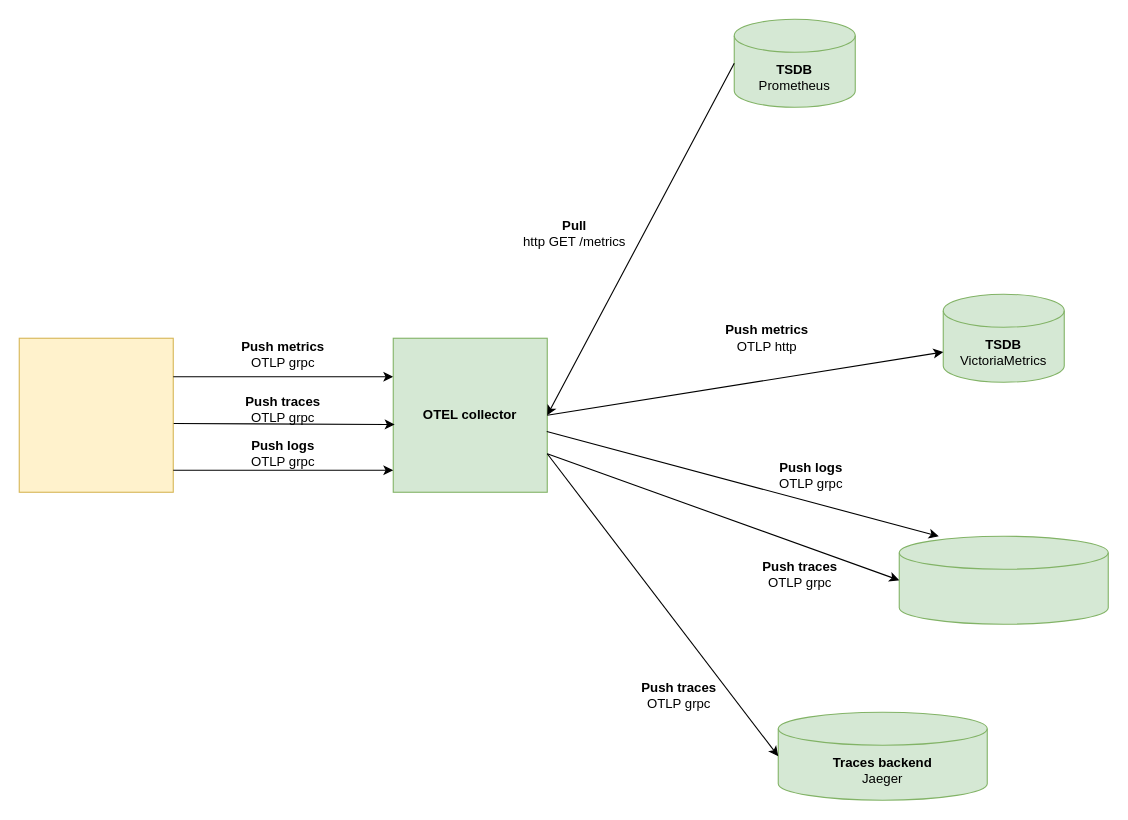
Image size: 1128x820. Some labels were removed from this diagram. The box of each missing label's shape, as (x1, y1, x2, y2) in pixels:
Log database search engine Traces backend Quickwit: (898, 535, 1108, 624)
Microservice to observe imalive-api: (18, 337, 173, 492)
